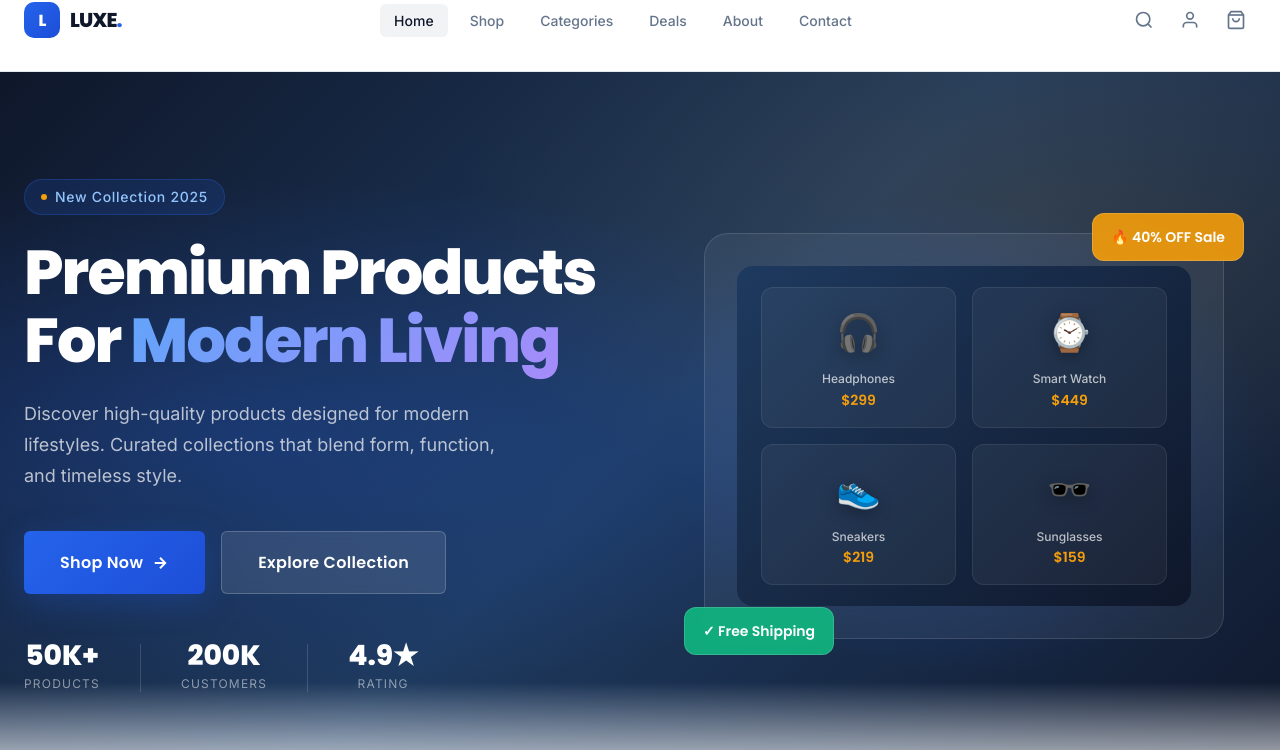
Scenario: can navigate to Contact page
What coordinates should you click on to do the following:
click the button "Contact"
I would click on:
 (825, 20)
Its box is [785,4,866,36].
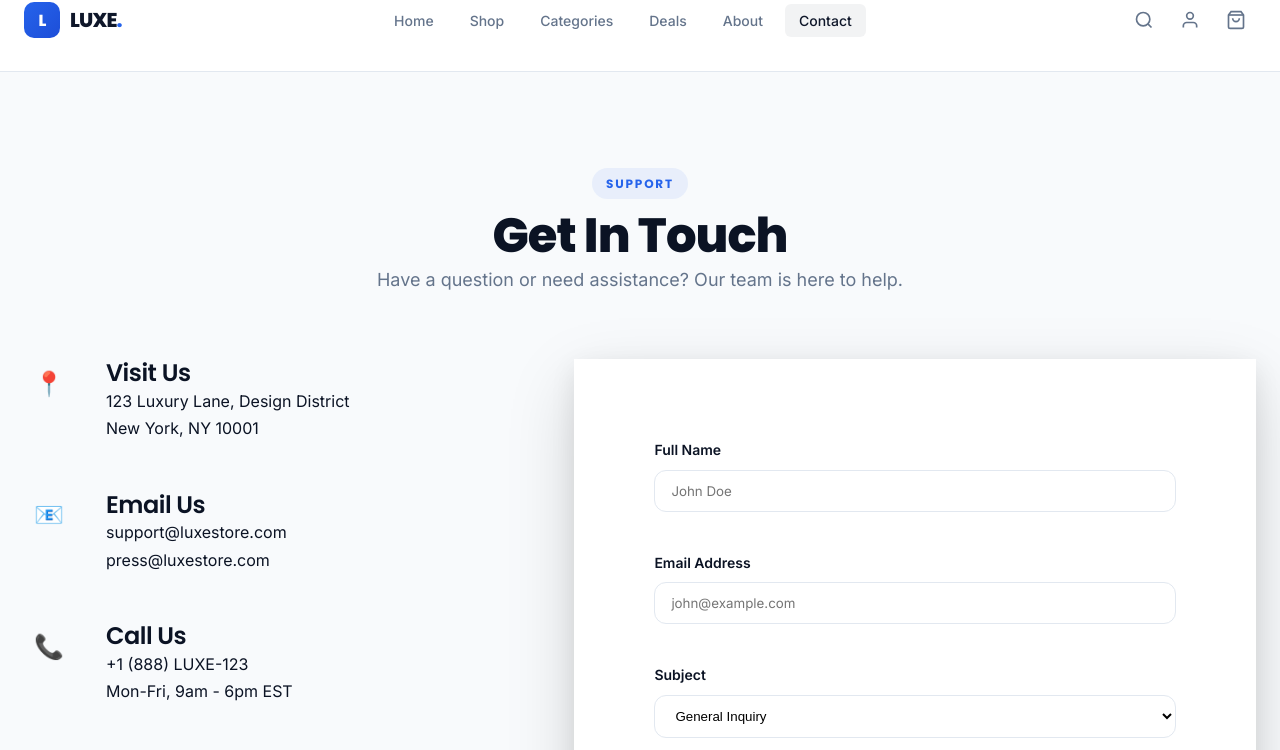
Expected: the heading "Get In Touch" is shown, [492,202,788,269]
